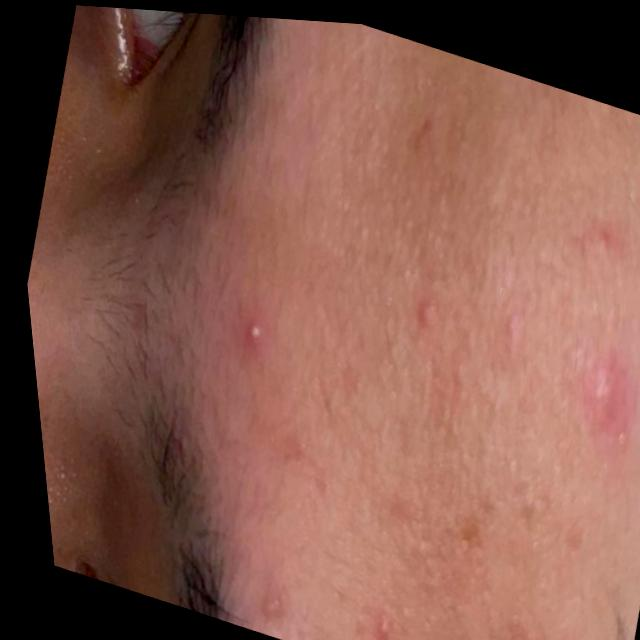papule: (527, 166, 640, 454)
pustule: (231, 302, 262, 345)
